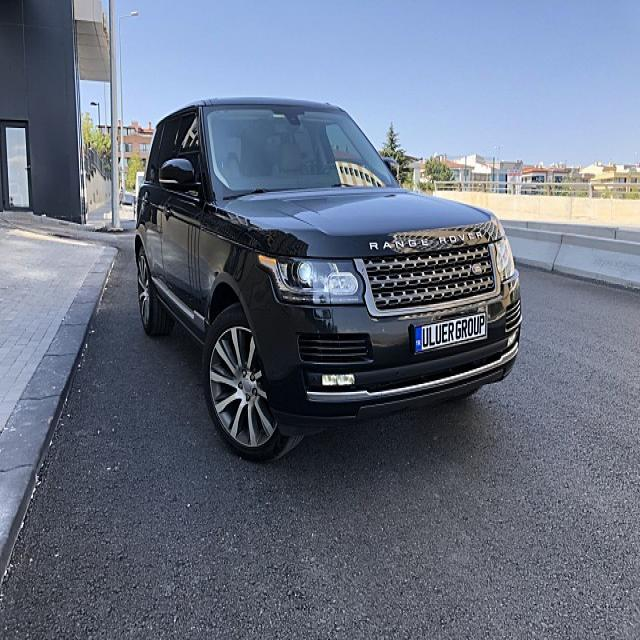plate: (411, 310, 489, 359)
